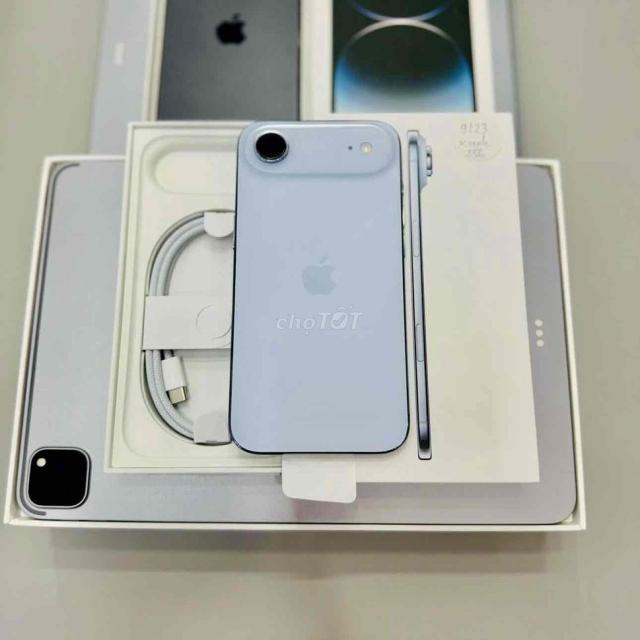gen_17: (234, 117, 416, 460)
